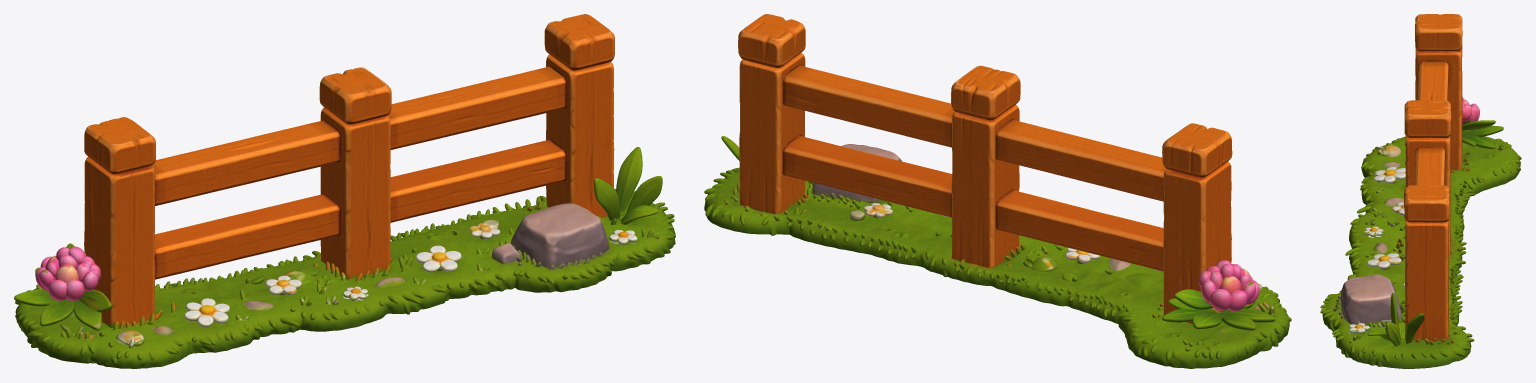
The model's file is wood-fence-straight-01.glb.
3 views of the same model, side by side, from view 1: azimuth 30°, elevation 25°; view 2: azimuth 150°, elevation 25°; view 3: azimuth 270°, elevation 25° (orthographic). The views are drawn at different scales.
Bounding box in the file's own units: 1.9 × 0.5909 × 0.7063.
Materials: 1 (1 with a texture image).
